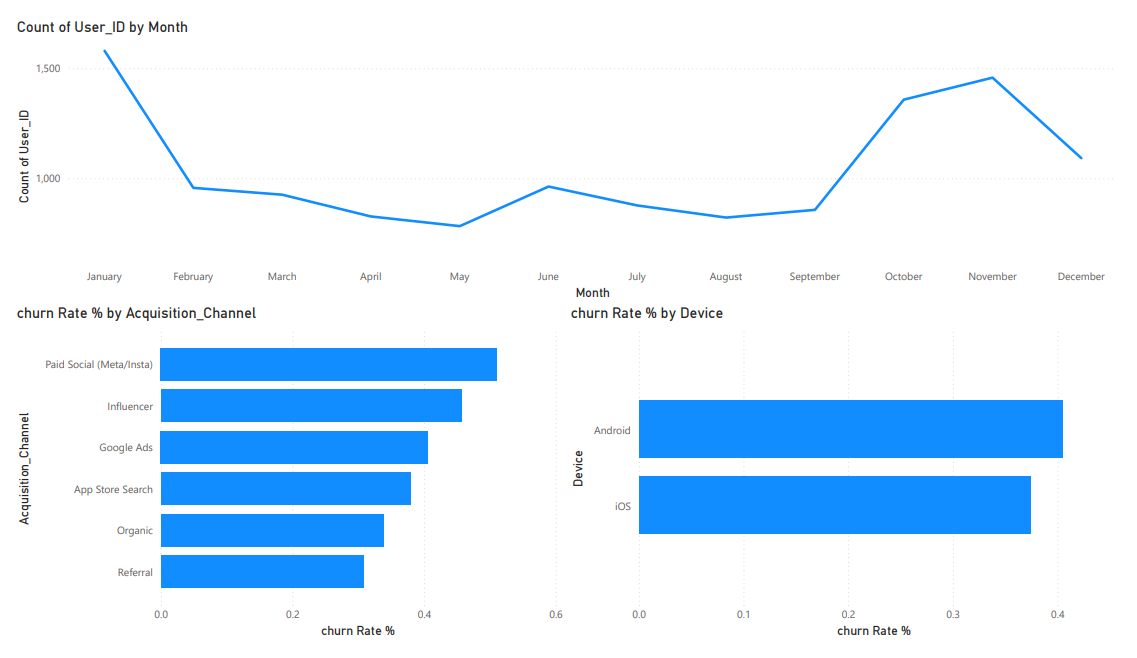

What the dashboard file says about the page in this screenshot:
{"tool":"powerbi","page":{"name":"Zone 3 Engagement and Retention","canvas":[1280,720],"ordinal":2},"visuals":[{"type":"lineChart","fields":{"Category":["jar_growth_dataset.Signup_Date.Variation.Date Hierarchy.Month"],"Y":["CountNonNull(jar_growth_dataset.User_ID)"]},"box":[0,0,1280,330],"z":1000},{"type":"clusteredBarChart","fields":{"Category":["jar_growth_dataset.Acquisition_Channel"],"Y":["jar_growth_dataset.churn Rate %"]},"box":[0,330,640,390],"z":2000},{"type":"clusteredBarChart","fields":{"Category":["jar_growth_dataset.Device"],"Y":["jar_growth_dataset.churn Rate %"]},"box":[640,330,640,390],"z":3000}]}

Visuals, with their boxes in screenshot pixels (x1, y1, x2, y2), scaled from the page's 1280x720 canvas onto the 1137x658 screenshot:
lineChart - jar_growth_dataset.Signup_Date.Variation.Date Hierarchy.Month x CountNonNull(jar_growth_dataset.User_ID): Rect(0, 0, 1136, 302)
clusteredBarChart - jar_growth_dataset.Acquisition_Channel x jar_growth_dataset.churn Rate %: Rect(0, 302, 568, 657)
clusteredBarChart - jar_growth_dataset.Device x jar_growth_dataset.churn Rate %: Rect(568, 302, 1136, 657)
